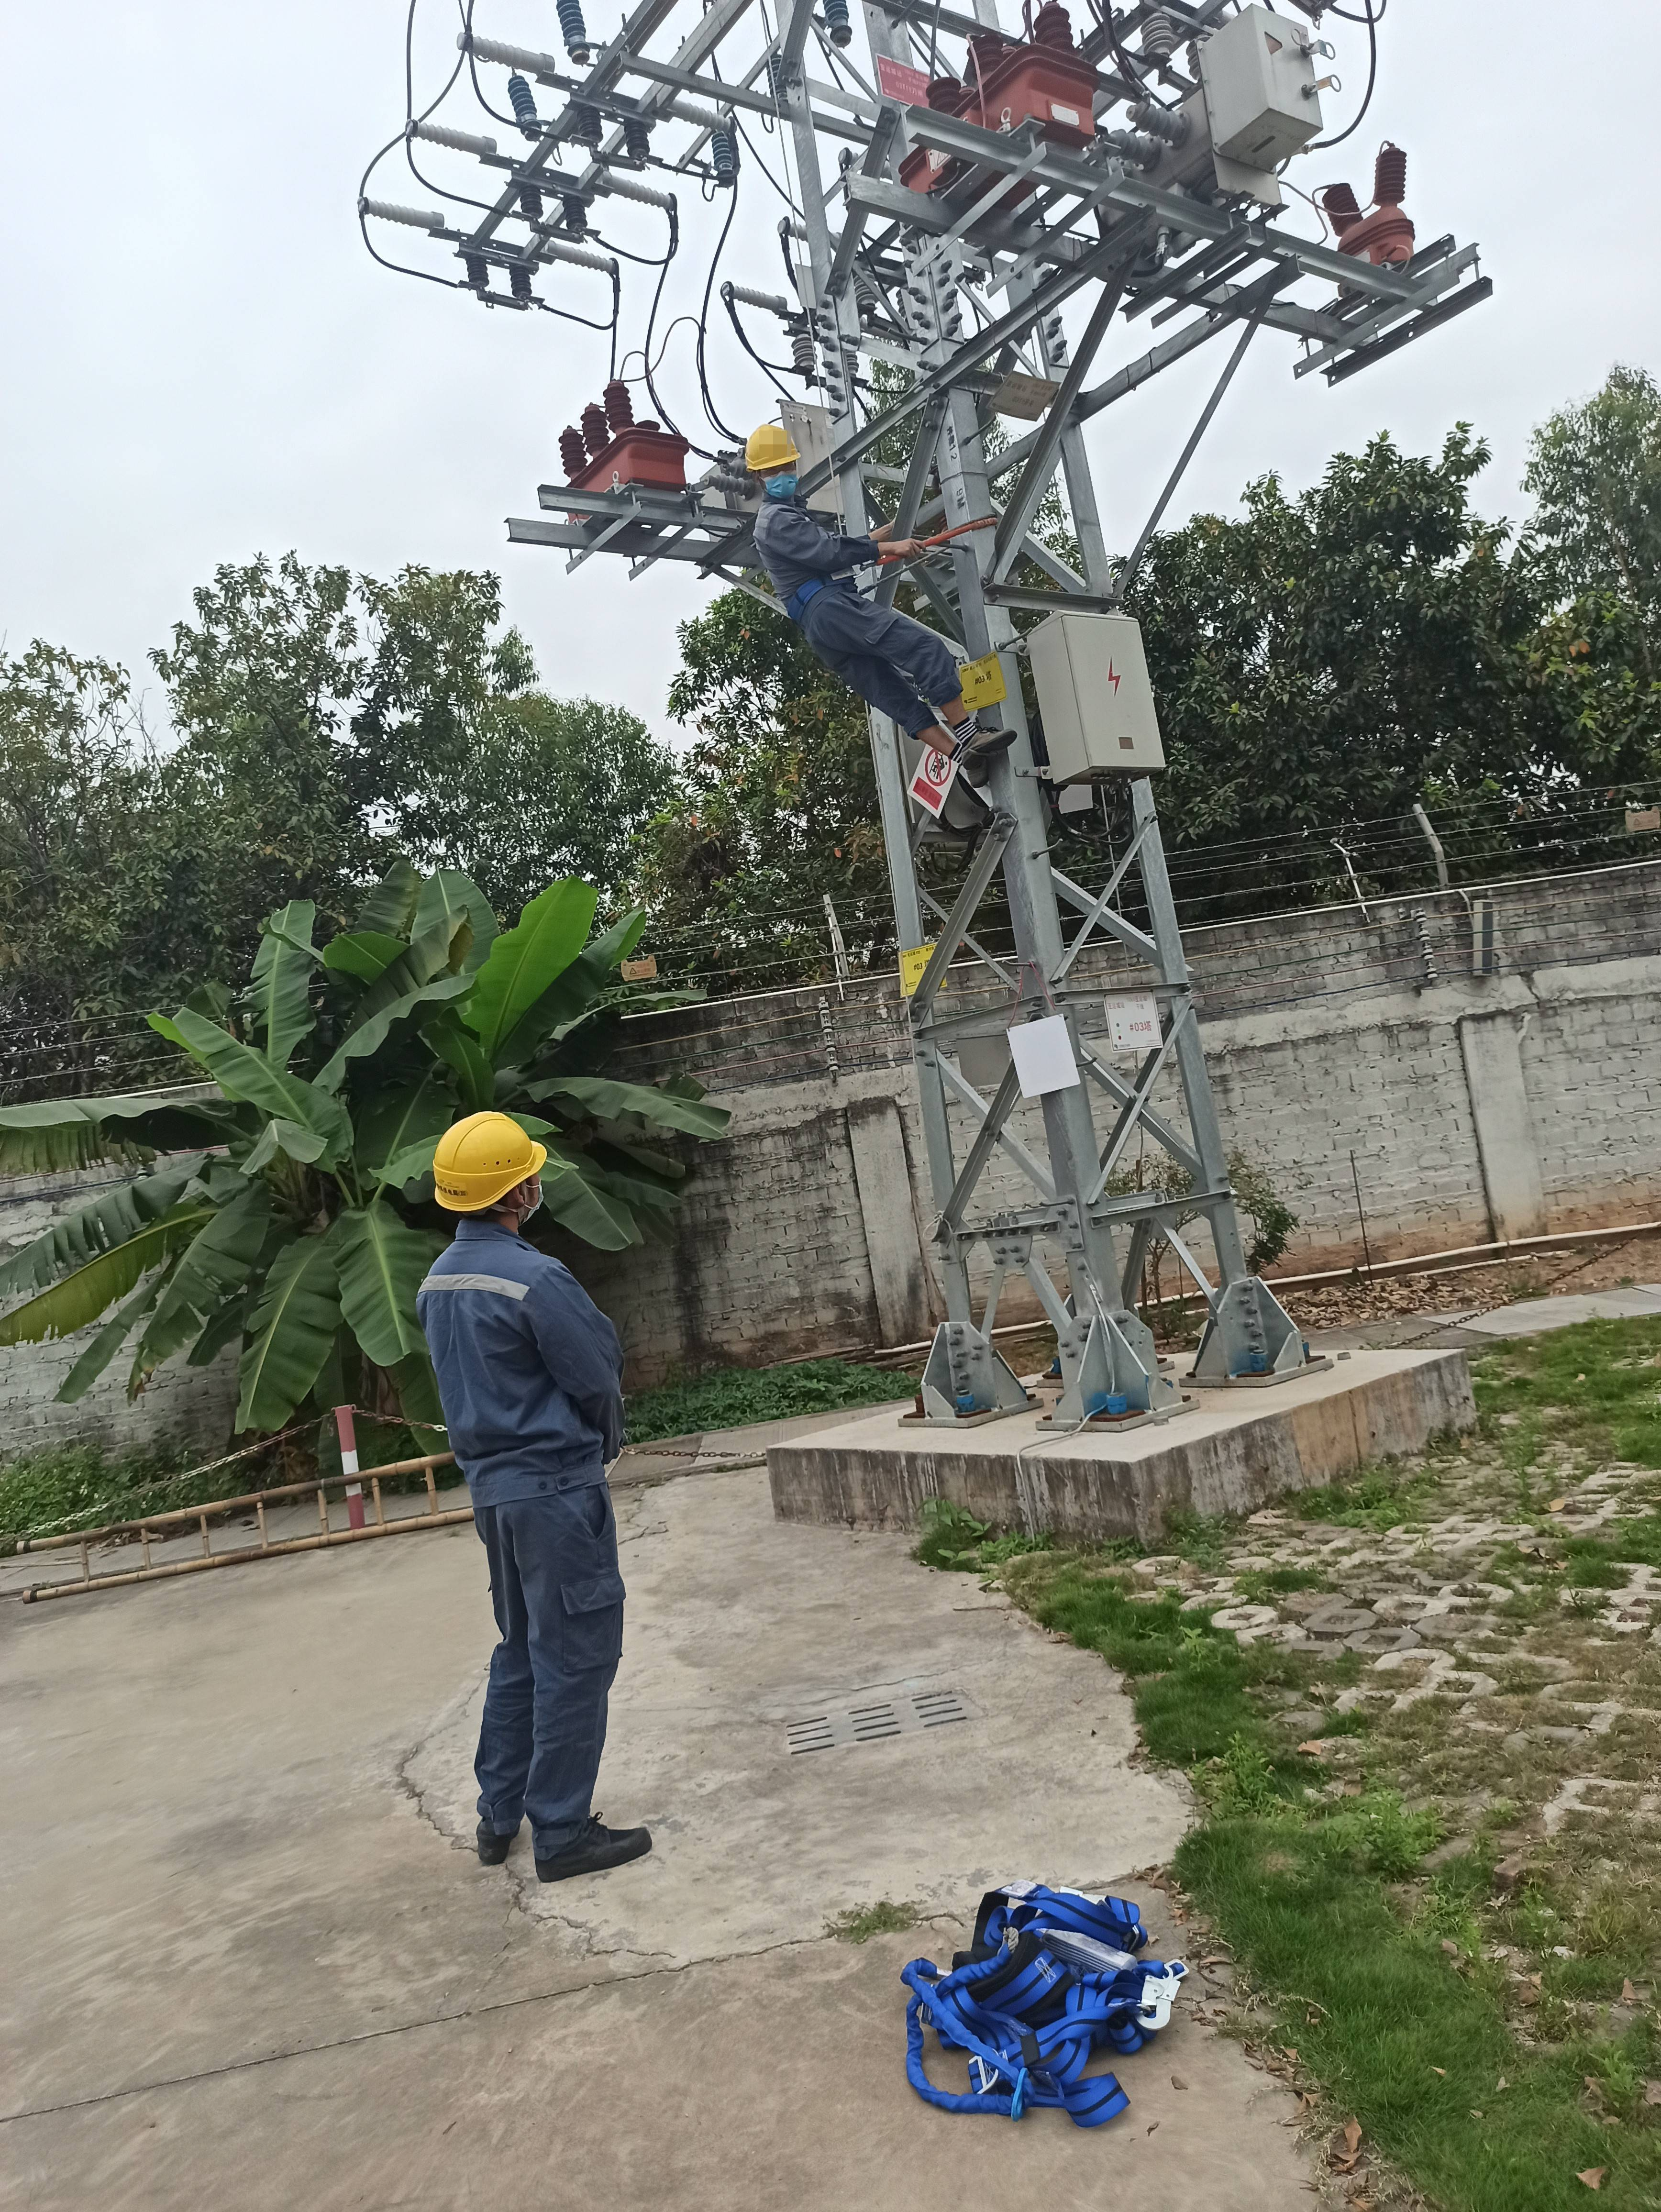downsuit: (462, 1512, 632, 1833), (801, 598, 967, 736)
upsuit: (407, 1225, 630, 1479), (755, 497, 869, 602)
wrongbottom: (921, 670, 963, 722), (914, 720, 958, 754)
